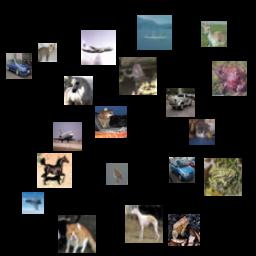airplane: (81, 30, 116, 65), (53, 122, 82, 151), (22, 192, 44, 214)
automobile: (166, 88, 195, 117), (6, 53, 32, 79), (169, 157, 195, 183)
bird: (106, 163, 128, 185)
cat: (58, 215, 96, 253), (95, 106, 127, 138), (189, 119, 215, 145), (38, 43, 57, 62)
deer: (201, 21, 227, 47)
dog: (125, 205, 163, 243)
frog: (204, 158, 242, 196), (119, 57, 157, 95), (212, 61, 247, 96), (168, 214, 200, 246)
ship: (137, 15, 172, 50)
